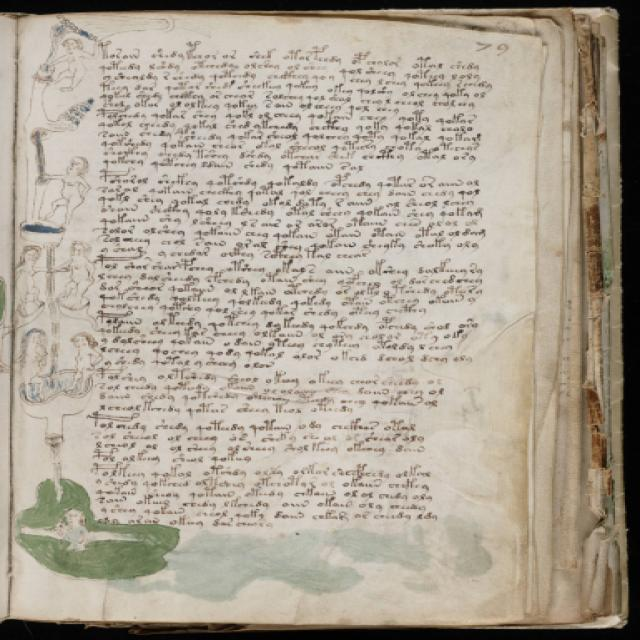person: (39, 152, 96, 229), (51, 237, 100, 322), (11, 326, 54, 405), (8, 242, 50, 322), (60, 330, 106, 402), (59, 35, 105, 99)
